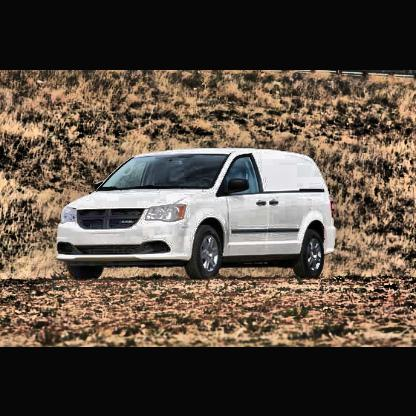Ram C-V Cargo Van Minivan 2012: (58, 148, 339, 281)
